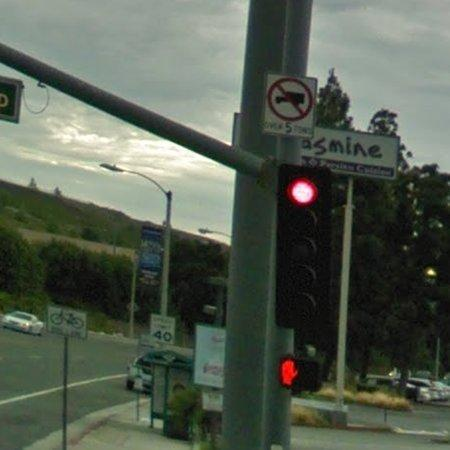traffic lights: (275, 162, 333, 327), (274, 352, 323, 394)
